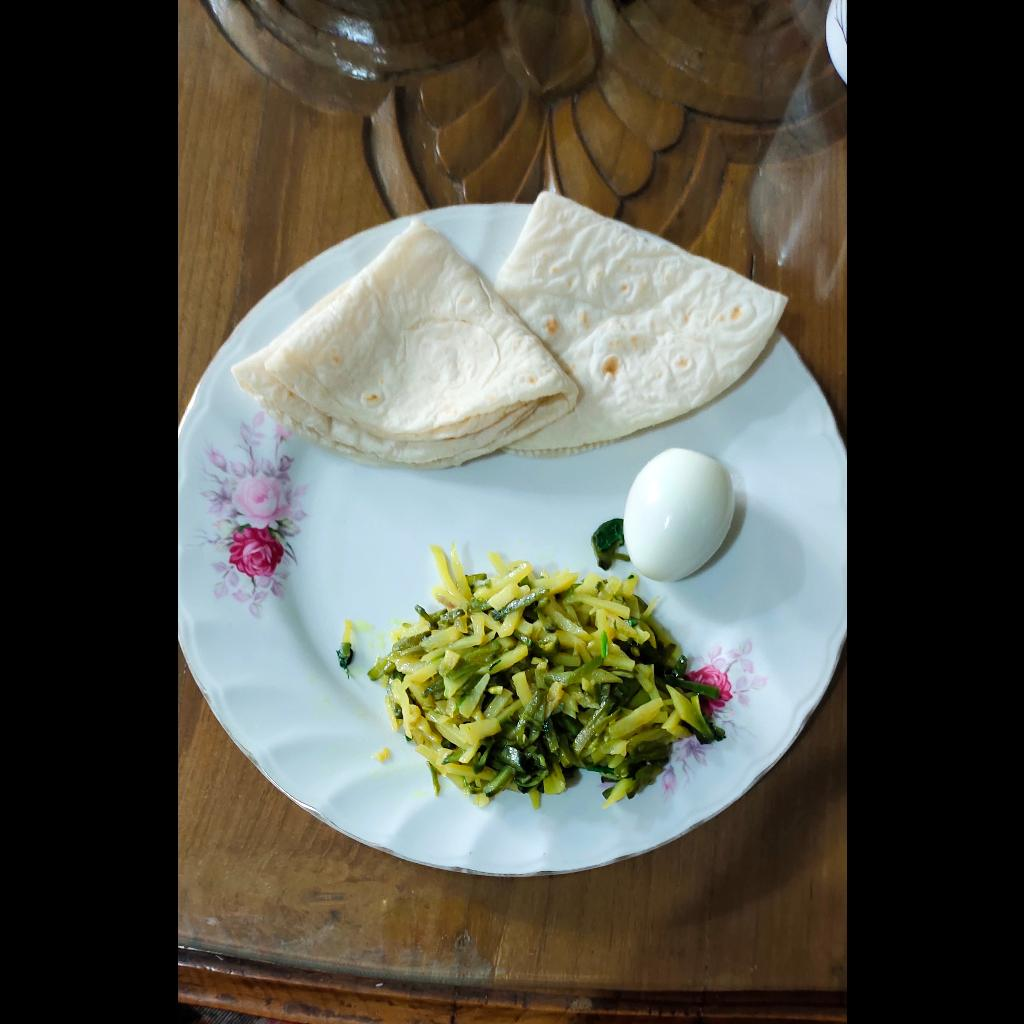egg-boiled: (626, 446, 735, 581)
ruti: (231, 190, 790, 469)
vegetable: (365, 540, 726, 811)
